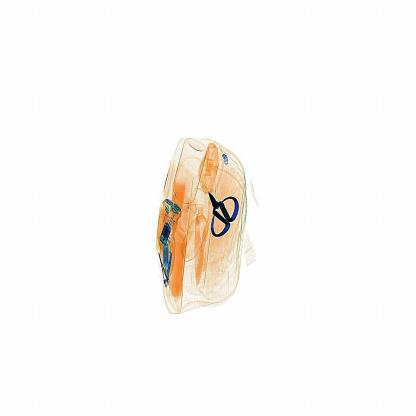gun: (204, 183, 246, 242)
